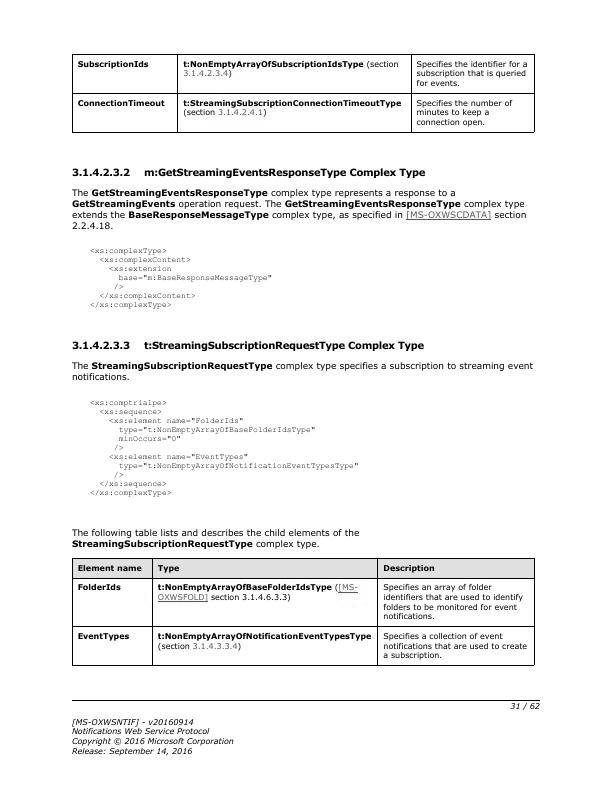table: (72, 556, 537, 671), (68, 52, 537, 136)
text: (86, 398, 359, 499), (67, 185, 528, 232), (87, 243, 271, 310), (68, 358, 534, 384), (66, 524, 361, 552), (70, 712, 236, 758), (65, 163, 427, 179), (67, 337, 429, 353)
